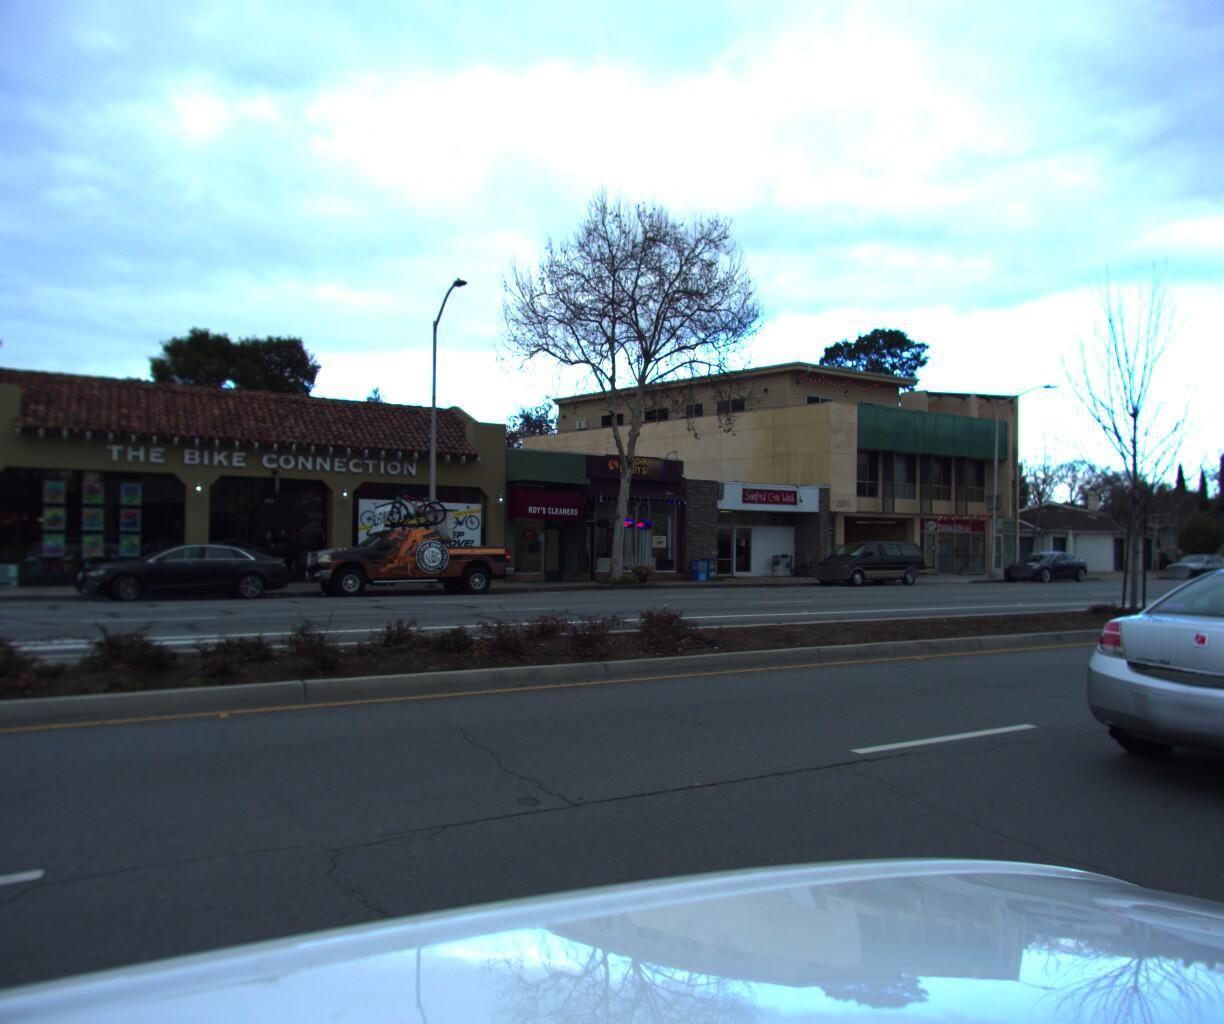car: (1060, 561, 1224, 852), (63, 538, 300, 609), (294, 532, 521, 603), (803, 537, 929, 586), (992, 546, 1092, 582), (1150, 548, 1224, 577)
